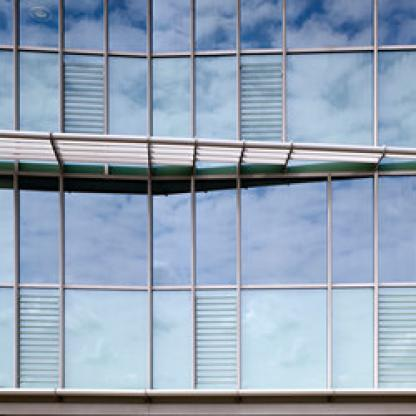window: (246, 185, 321, 281), (68, 185, 138, 283), (246, 295, 324, 382), (70, 294, 140, 385), (291, 55, 363, 140), (336, 183, 368, 278), (25, 186, 57, 278), (202, 185, 232, 281), (291, 5, 368, 42), (338, 293, 366, 384), (160, 188, 186, 280), (160, 296, 186, 386), (110, 60, 143, 130), (202, 62, 232, 133), (24, 55, 53, 125), (158, 62, 183, 134), (201, 5, 230, 47), (68, 5, 98, 45), (113, 5, 140, 47), (248, 5, 276, 42), (160, 5, 184, 45), (25, 7, 52, 40)
